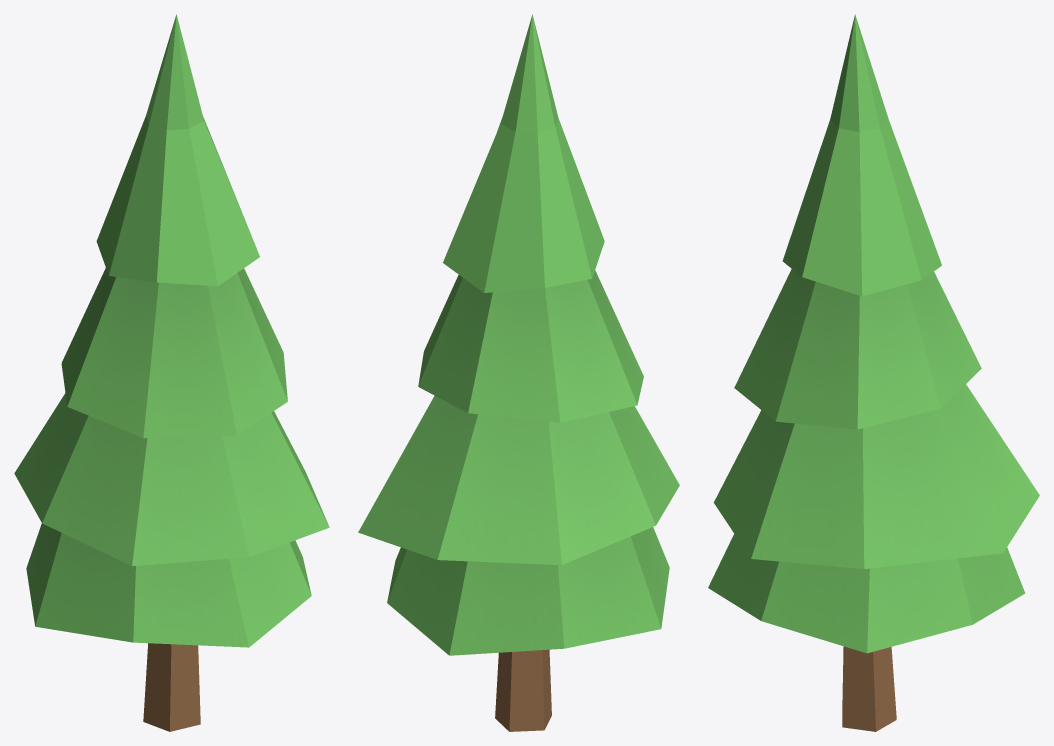
File: Fir_Tree_OneSided_m_02_LOD.fbx
3 renders of one model, left to right at view 1: azimuth 30°, elevation 25°; view 2: azimuth 150°, elevation 25°; view 3: azimuth 270°, elevation 25°, orthographic.
Visible parts, largest first — view 1: Fir_Tree_OneSided_m_02_LOD0; view 2: Fir_Tree_OneSided_m_02_LOD0; view 3: Fir_Tree_OneSided_m_02_LOD0.
Boxes of the visible parts, x1,y1,x2,y2 form: Fir_Tree_OneSided_m_02_LOD0: [14, 14, 329, 731]; Fir_Tree_OneSided_m_02_LOD0: [358, 14, 679, 731]; Fir_Tree_OneSided_m_02_LOD0: [708, 14, 1039, 731].
Size of what is drawn, in the model's own units: 280 by 706 by 301.
